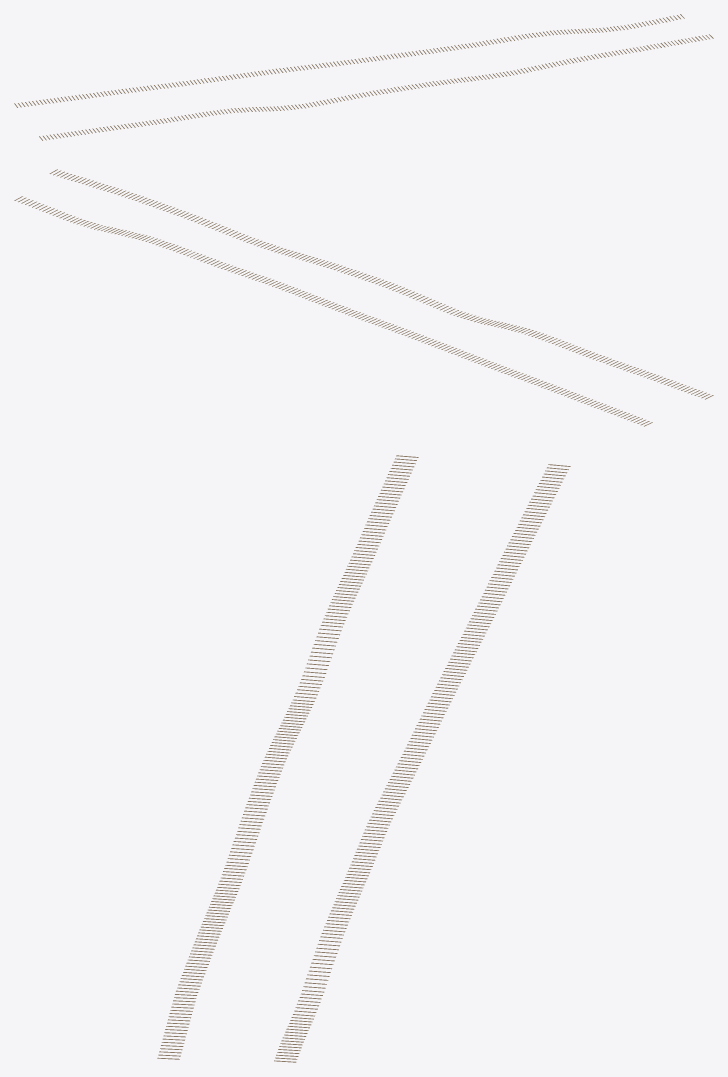
File: c_1622_17822_rail_sleeper.glb
3 renders of one model, top to bottom at view 1: azimuth 30°, elevation 25°; view 2: azimuth 150°, elevation 25°; view 3: azimuth 270°, elevation 25°, orthographic. The views are drawn at different scales.
Visible parts, largest first — view 1: geometry_0; view 2: geometry_0; view 3: geometry_0.
Part boxes in pixels (x1,y1,x2,y2): geometry_0: (14,14,713,140); geometry_0: (14,169,713,426); geometry_0: (157,455,570,1062).
Bounding box in the file's own units: 150 × 1.96 × 43.91.
